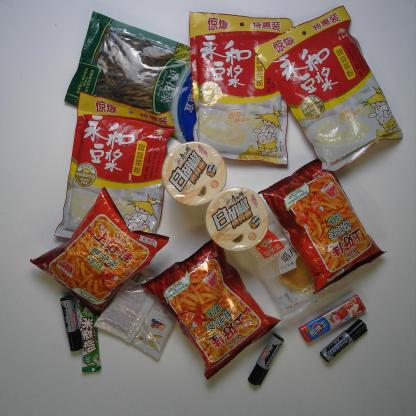Candy: (298, 294, 368, 341)
Chocolate: (76, 294, 102, 374)
Dessert: (231, 210, 348, 321)
Dried Food: (65, 11, 215, 146)
Instant Drink: (254, 5, 403, 172), (54, 92, 176, 254), (190, 12, 292, 166), (93, 256, 194, 360)
Instant Noodles: (162, 141, 227, 206), (206, 188, 268, 251)
Puffed Food: (140, 236, 280, 379), (29, 186, 170, 320), (257, 154, 387, 294)
Stationery: (320, 319, 367, 363), (248, 334, 283, 386), (60, 294, 86, 351)
